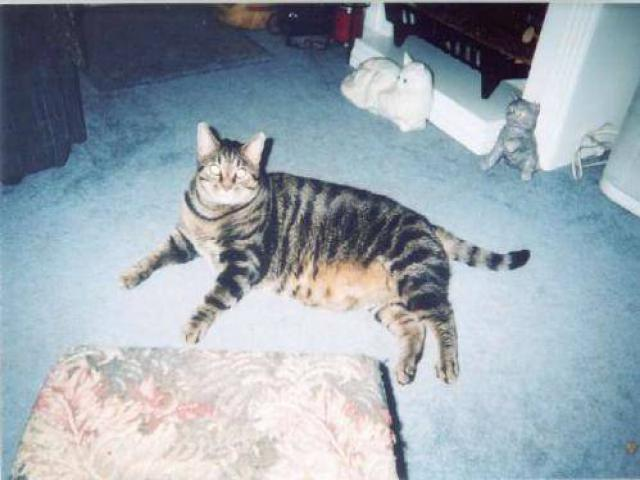cat: (117, 127, 538, 389)
